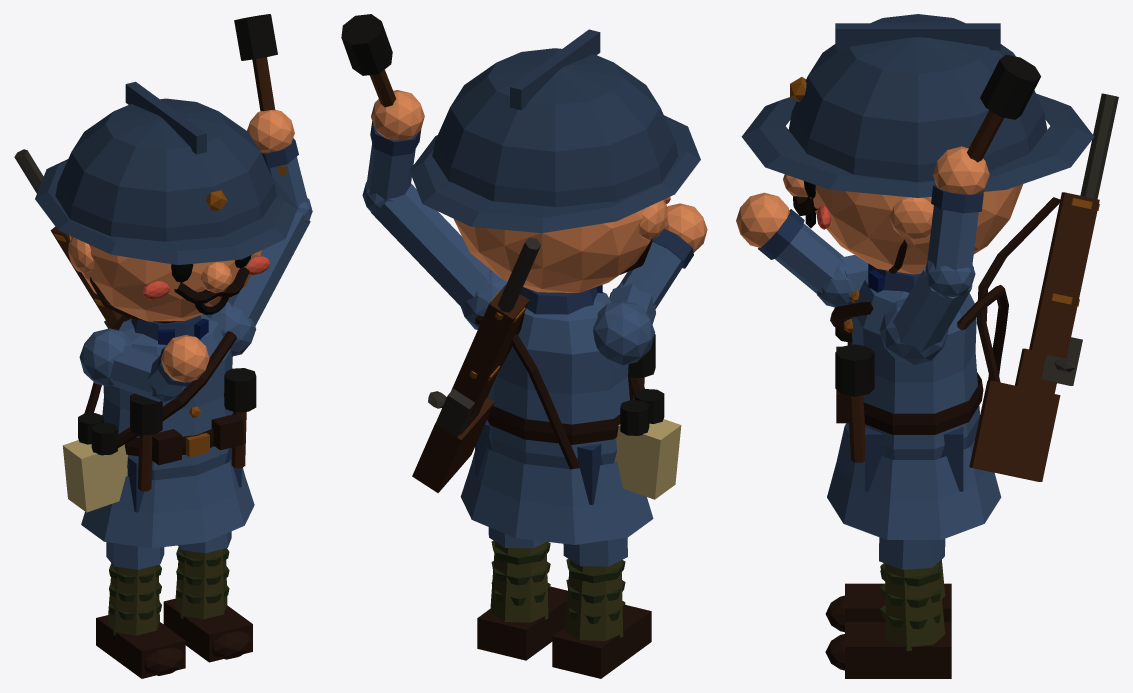
File: Granadero_CascoAdrian.obj
The picture shows the model from 3 angles, left to right: view 1: azimuth 30°, elevation 25°; view 2: azimuth 150°, elevation 25°; view 3: azimuth 270°, elevation 25°; orthographic projection. The views are drawn at different scales.
Parts seen in each view (by area): view 1: Cuerpo, Pierna_I, Pierna_D; view 2: Cuerpo, Pierna_I, Pierna_D; view 3: Cuerpo, Pierna_D, Pierna_I.
Part boxes in pixels (x1=…): Cuerpo: x1=14, y1=14, x2=312, y2=548; Pierna_I: x1=96, y1=542, x2=185, y2=678; Pierna_D: x1=163, y1=531, x2=252, y2=662; Cuerpo: x1=341, y1=14, x2=707, y2=544; Pierna_I: x1=552, y1=537, x2=651, y2=678; Pierna_D: x1=477, y1=527, x2=567, y2=660; Cuerpo: x1=736, y1=14, x2=1118, y2=539; Pierna_D: x1=825, y1=537, x2=951, y2=678; Pierna_I: x1=825, y1=559, x2=951, y2=632.
Bounding box in the file's own units: 0.904 × 1.86 × 0.972.
